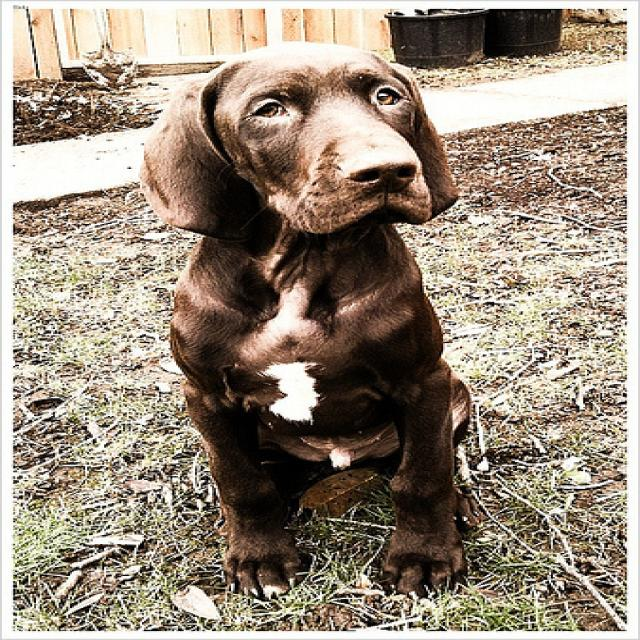dog-german_shorthaired: (119, 32, 489, 602)
